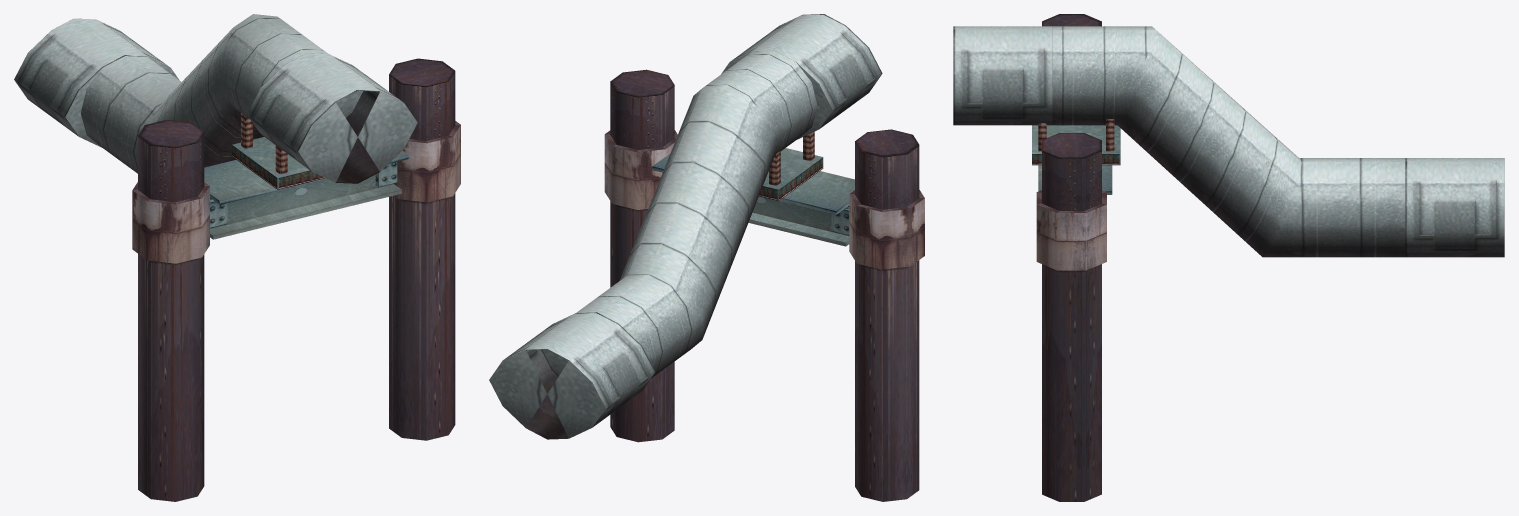
Rendered from oil_pipes_riser.fbx.
3 renders of one model, left to right at view 1: azimuth 30°, elevation 25°; view 2: azimuth 150°, elevation 25°; view 3: azimuth 270°, elevation 25°, orthographic. The views are drawn at different scales.
Visible parts, largest first — view 1: mesh_13, mesh_4, mesh_3, mesh_10, mesh_1, mesh_2, mesh_5; view 2: mesh_13, mesh_4, mesh_3, mesh_2, mesh_5, mesh_0, mesh_1; view 3: mesh_13, mesh_3, mesh_5, mesh_4.
Boxes of the visible parts, x1,y1,x2,y2 form: mesh_13: [14, 14, 417, 183]; mesh_4: [132, 119, 209, 501]; mesh_3: [389, 58, 460, 440]; mesh_10: [210, 174, 393, 228]; mesh_1: [210, 184, 401, 239]; mesh_2: [204, 151, 408, 204]; mesh_5: [232, 137, 325, 189]; mesh_13: [489, 14, 882, 439]; mesh_4: [849, 129, 924, 501]; mesh_3: [604, 69, 677, 442]; mesh_2: [652, 154, 854, 214]; mesh_5: [759, 148, 823, 201]; mesh_0: [752, 196, 849, 235]; mesh_1: [748, 212, 849, 246]; mesh_13: [953, 26, 1504, 257]; mesh_3: [1036, 133, 1106, 501]; mesh_5: [1032, 125, 1120, 165]; mesh_4: [1042, 14, 1101, 26].
Bounding box in the file's own units: 270 × 338 × 423.
Materials: 1 (1 with a texture image).
